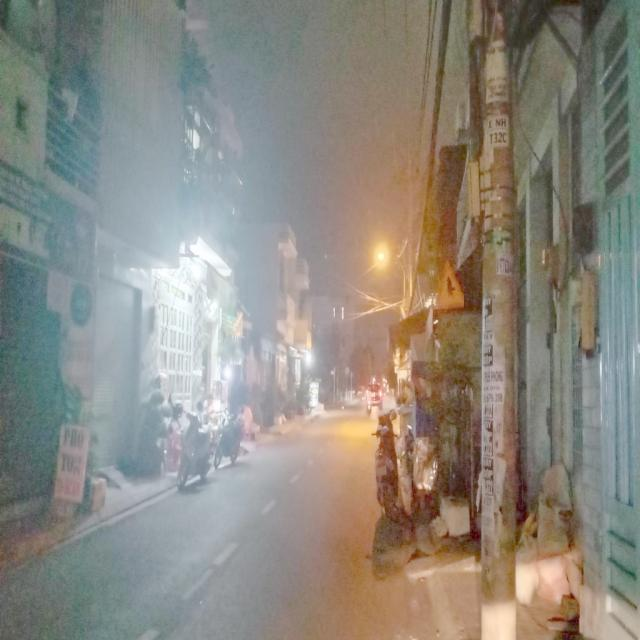giao_nhau_voi_duong_khong_uu_tien: (429, 253, 464, 309)
